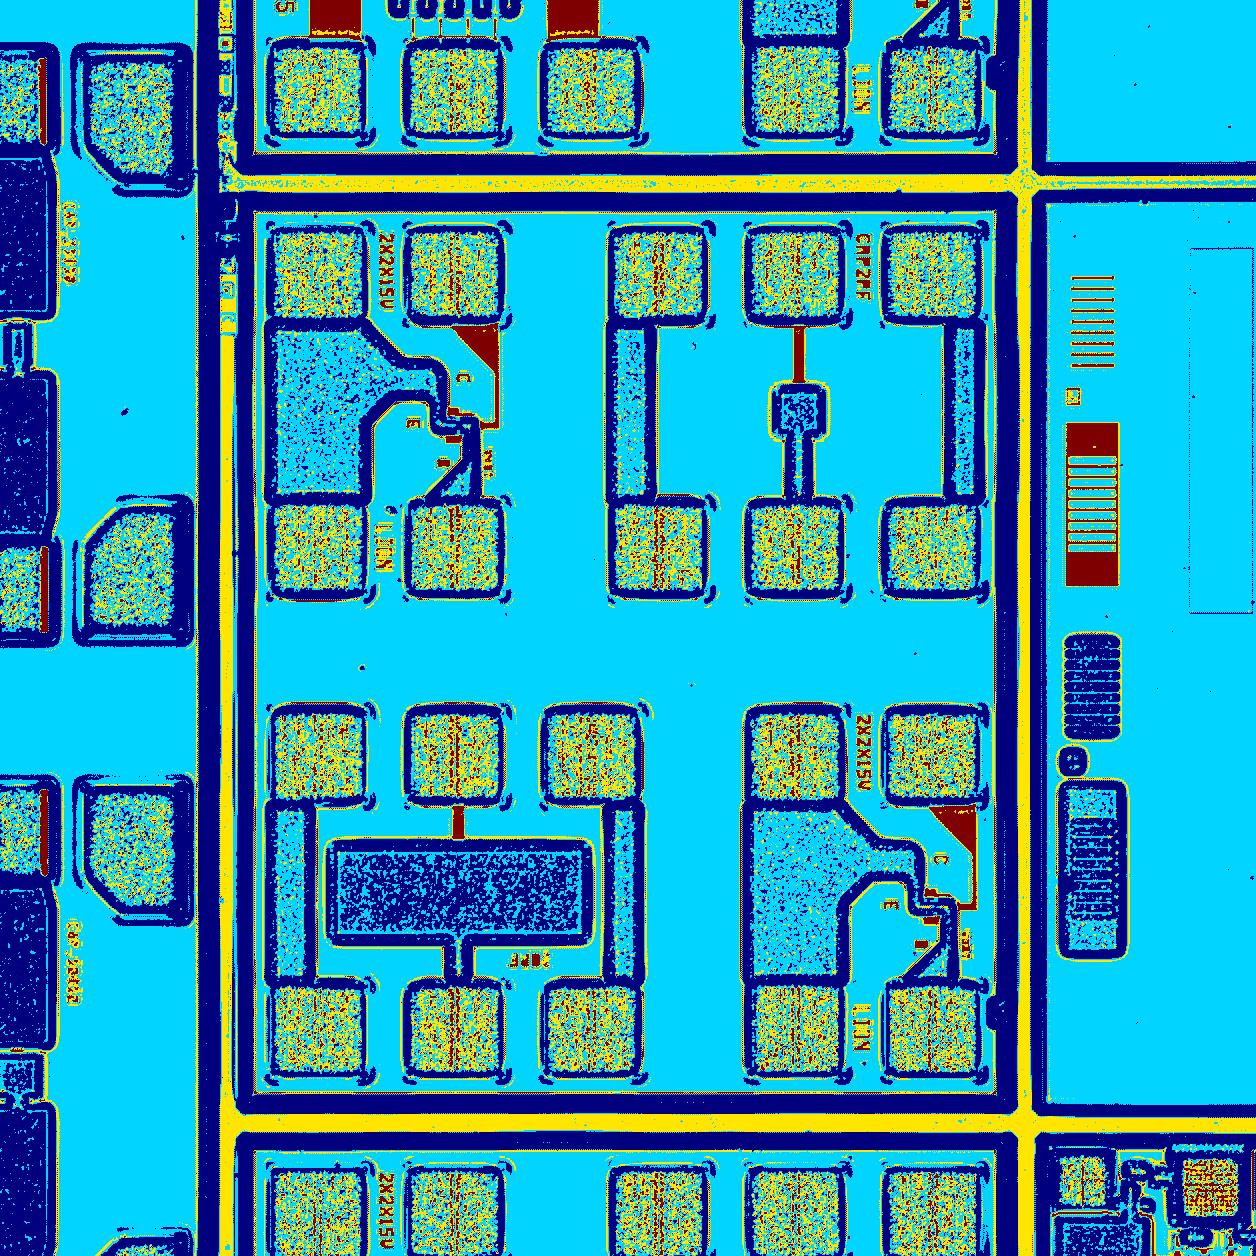Die: (233, 191, 1018, 1113)
Pad 3: (616, 506, 703, 592), (275, 505, 362, 590), (889, 232, 975, 317), (275, 233, 362, 317), (412, 714, 499, 798), (412, 988, 499, 1072), (549, 988, 636, 1072), (750, 506, 838, 589), (752, 232, 838, 316), (412, 506, 498, 590), (549, 713, 635, 797), (755, 986, 838, 1072), (889, 988, 975, 1072), (889, 506, 977, 589), (412, 232, 497, 316), (753, 714, 837, 799), (889, 714, 974, 798), (276, 714, 362, 797), (275, 988, 361, 1071), (615, 233, 702, 315)
